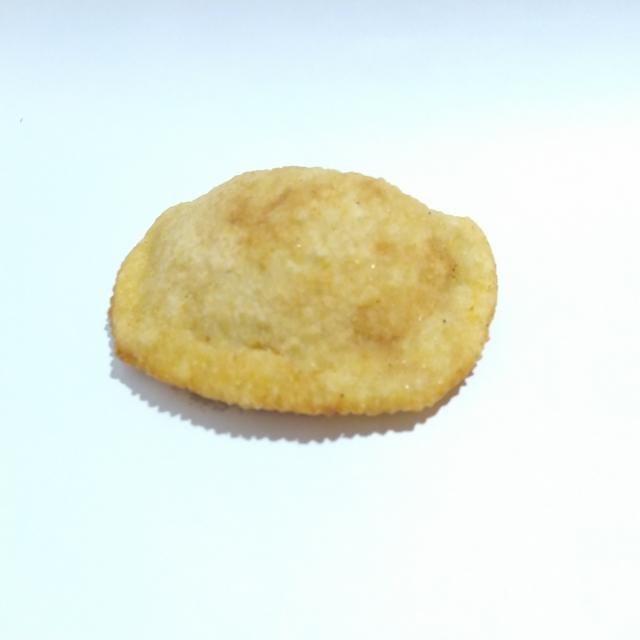Pastel_Mandio: (93, 145, 507, 444)
